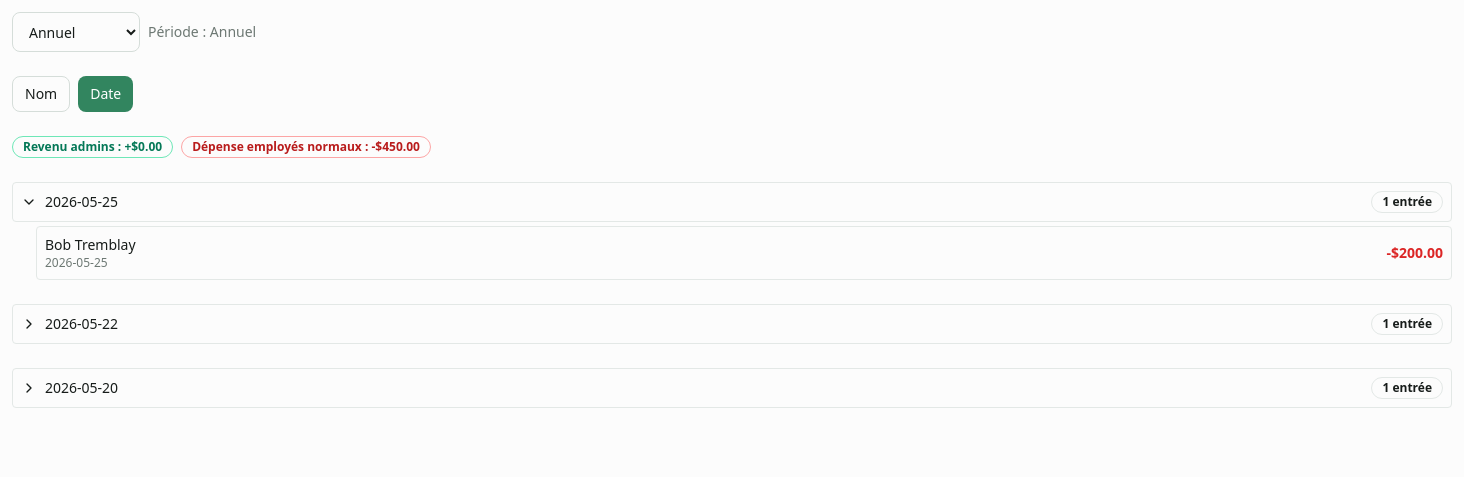
Test: Finance — Paie des employés grouping › sorts entries inside each name group from newest to oldest
Click the button "Nom": {"x": 41, "y": 94} x1=12 y1=76 x2=70 y2=112
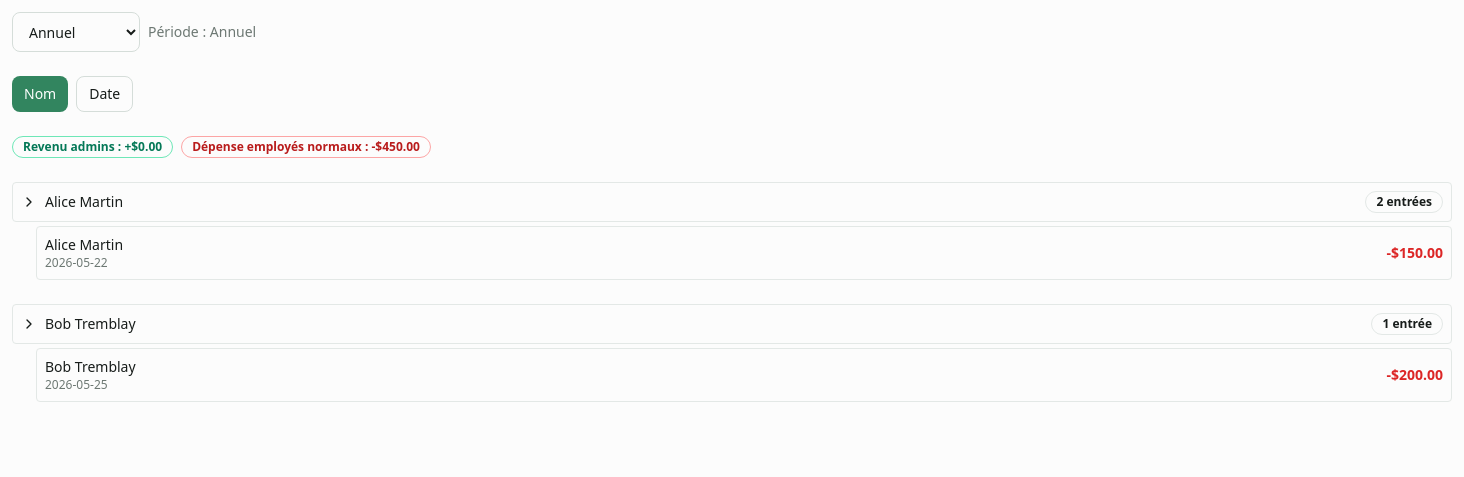
# Expand Alice's group to see the remaining entry in the content
Click the button with test id "group-trigger-Alice Martin": {"x": 84, "y": 202} x1=12 y1=182 x2=1452 y2=222
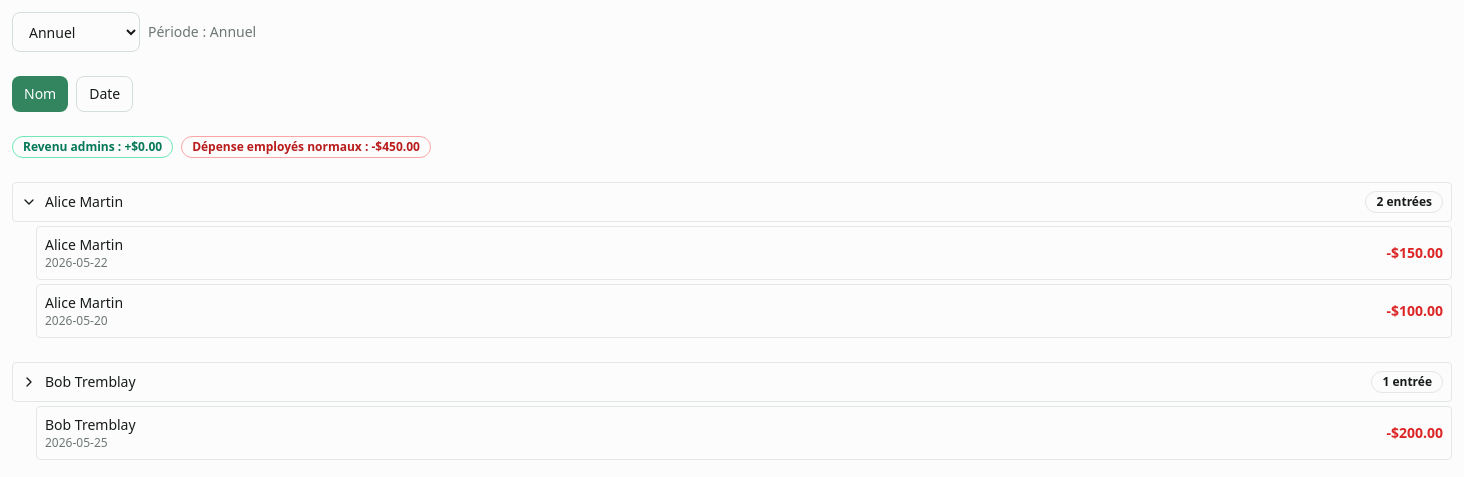
Check: the text "-$100.00" is shown, box x1=1386 y1=301 x2=1443 y2=321
